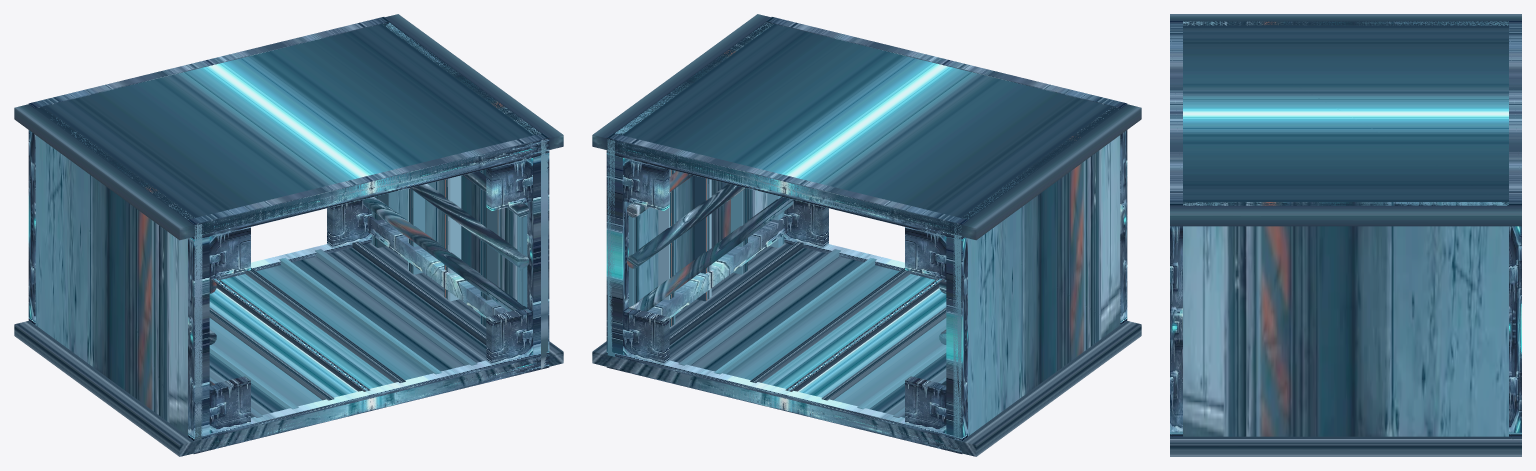
File: hangar_koridor_ice.glb
3 renders of one model, left to right at view 1: azimuth 30°, elevation 25°; view 2: azimuth 150°, elevation 25°; view 3: azimuth 270°, elevation 25°, orthographic. The views are drawn at different scales.
Parts seen in each view (by area): view 1: LOD0_koridor; view 2: LOD0_koridor; view 3: LOD0_koridor.
Part boxes in pixels (box(x1,y1,x2,y2)): LOD0_koridor: box(14, 14, 563, 456); LOD0_koridor: box(592, 14, 1141, 456); LOD0_koridor: box(1170, 14, 1521, 456).
Size of the model in its own units: 10.2 by 5.84 by 7.6.
1 material, 1 textured.
